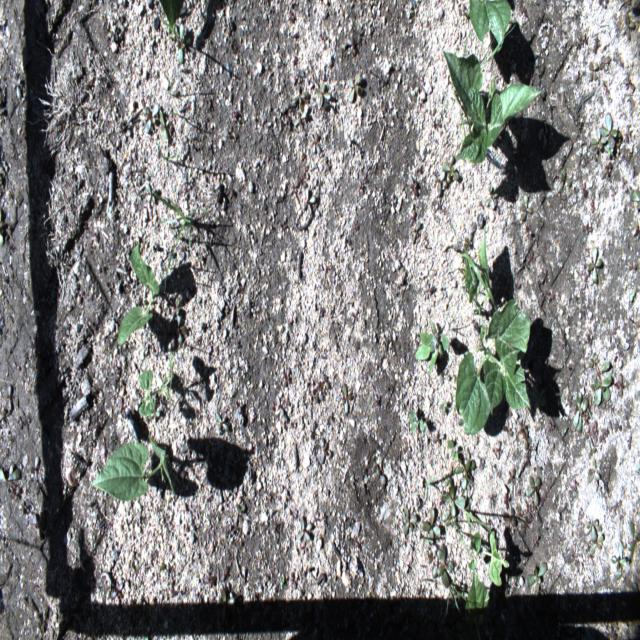crop: (458, 231, 534, 436), (441, 50, 543, 167), (89, 435, 175, 504), (470, 0, 518, 68), (466, 569, 508, 638)
weed: (24, 54, 109, 161), (143, 190, 207, 300), (116, 240, 164, 349), (468, 512, 514, 591), (136, 357, 174, 419), (413, 319, 451, 373), (585, 353, 616, 411), (442, 484, 468, 532), (431, 539, 455, 590), (597, 100, 618, 156), (583, 517, 607, 562), (523, 559, 547, 601), (610, 533, 632, 575), (171, 13, 189, 64), (569, 392, 593, 430), (422, 507, 442, 549), (585, 243, 605, 283), (454, 454, 475, 490), (402, 498, 421, 537), (439, 152, 462, 182), (142, 101, 160, 134), (337, 384, 356, 414), (525, 477, 543, 508), (432, 168, 450, 198), (590, 127, 604, 163), (296, 516, 312, 544), (445, 436, 461, 464), (302, 189, 317, 218), (409, 409, 426, 434), (348, 68, 360, 103), (10, 76, 24, 105), (501, 507, 517, 532), (155, 155, 181, 169), (308, 131, 321, 157), (412, 220, 424, 248), (408, 171, 420, 197)
